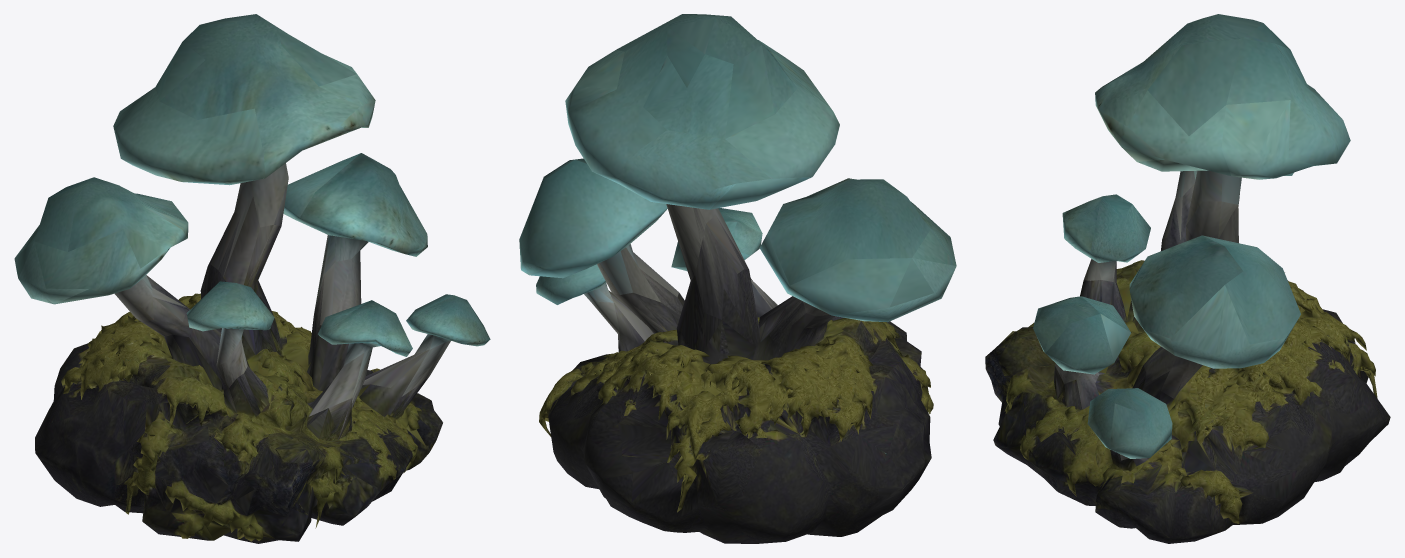
Rendered from glow-fungus.glb.
3 views of the same model, side by side, from view 1: azimuth 30°, elevation 25°; view 2: azimuth 150°, elevation 25°; view 3: azimuth 270°, elevation 25° (orthographic). The views are drawn at different scales.
Parts seen in each view (by area): view 1: glow-fungus_LOD0; view 2: glow-fungus_LOD0; view 3: glow-fungus_LOD0.
Part boxes in pixels (<box>): glow-fungus_LOD0: <box>14,14,490,543</box>; glow-fungus_LOD0: <box>519,14,956,543</box>; glow-fungus_LOD0: <box>985,14,1390,543</box>.
Size of what is drawn, in the model's own units: 1.9 by 1.91 by 1.56.
1 material, 1 textured.
